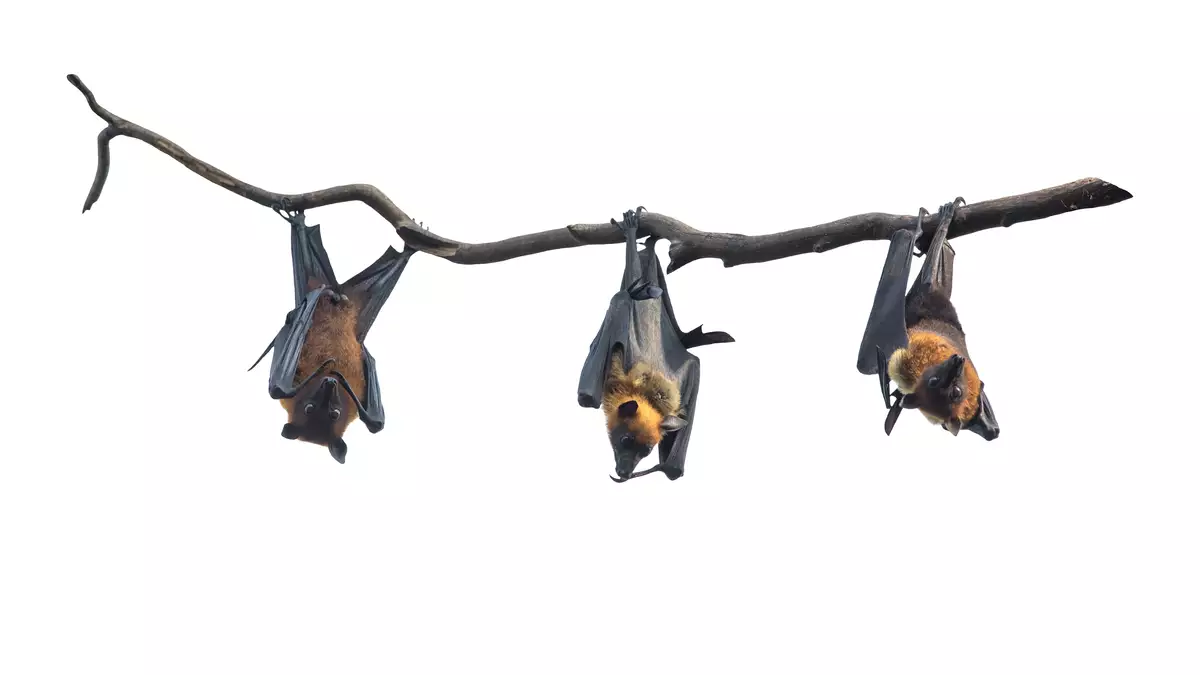bats: (237, 166, 487, 520), (557, 190, 759, 515), (838, 180, 1050, 472)
